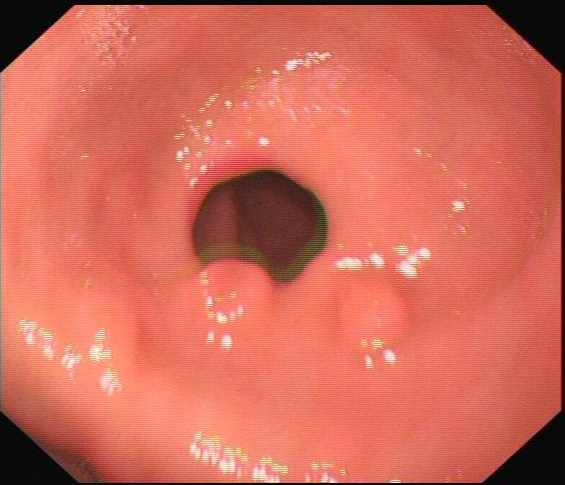Polyp: (170, 254, 287, 344), (319, 268, 422, 367)
